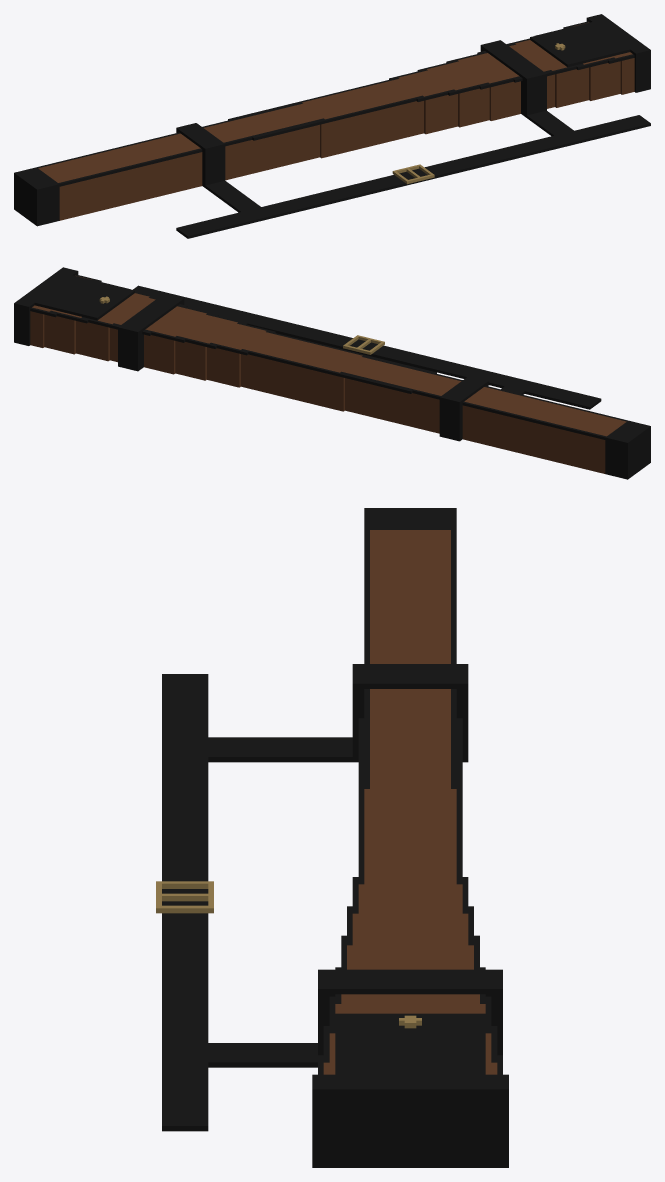
Rendered from back_holster.glb.
The picture shows the model from 3 angles, top to bottom: view 1: azimuth 30°, elevation 25°; view 2: azimuth 150°, elevation 25°; view 3: azimuth 270°, elevation 25°; orthographic projection. The views are drawn at different scales.
Parts seen in each view (by area): view 1: back_holster:compound; view 2: back_holster:compound; view 3: back_holster:compound.
Boxes of the visible parts, bbox=[...] form: back_holster:compound: bbox=[14, 14, 650, 238]; back_holster:compound: bbox=[14, 267, 650, 479]; back_holster:compound: bbox=[156, 508, 508, 1167].
Size of the model in its own units: 0.96 by 0.064 by 0.244.
